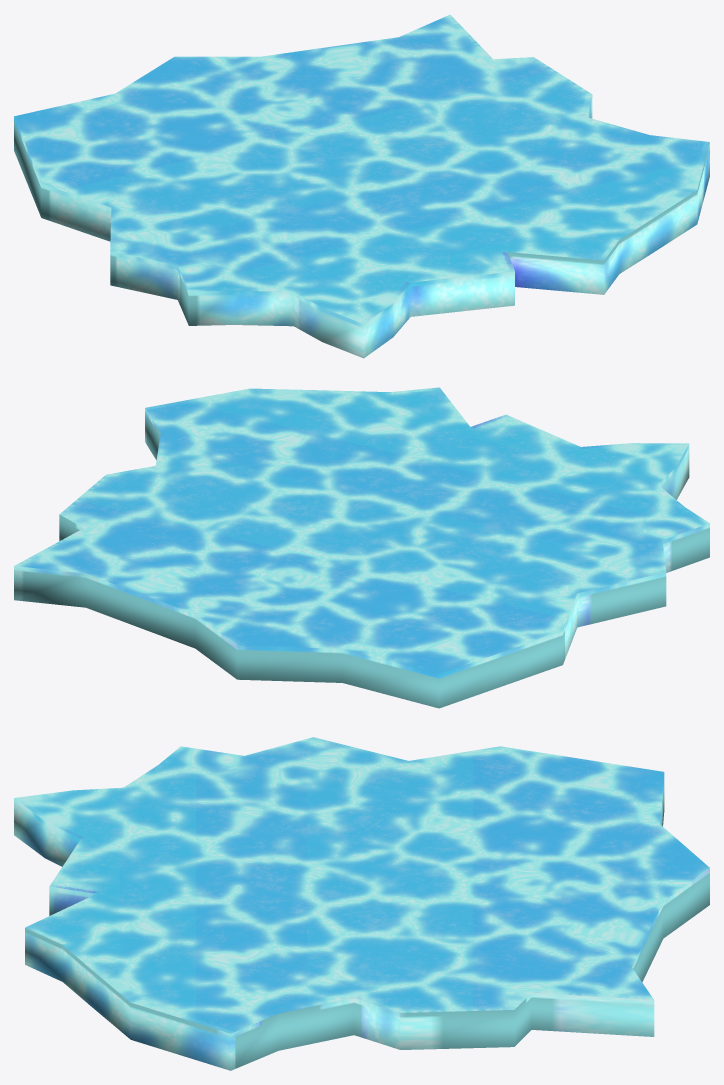
File: SM_Ice.fbx
3 renders of one model, top to bottom at view 1: azimuth 30°, elevation 25°; view 2: azimuth 150°, elevation 25°; view 3: azimuth 270°, elevation 25°, orthographic. The views are drawn at different scales.
Parts seen in each view (by area): view 1: Box001; view 2: Box001; view 3: Box001.
Boxes of the visible parts, left/top/right/bottom form: Box001: left=14, top=14, right=709, bottom=358; Box001: left=14, top=387, right=709, bottom=708; Box001: left=14, top=737, right=709, bottom=1070.
Size of the model in its own units: 169 by 167 by 9.86.
